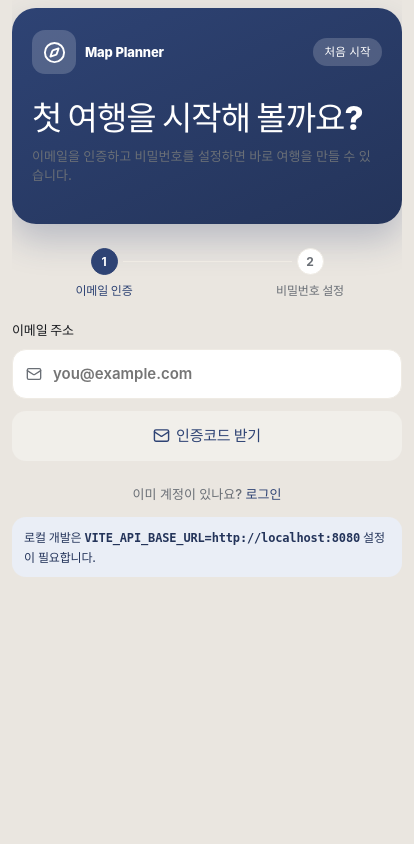
Test: ManageAuthSection › 서버 응답에 인증코드가 포함돼도 화면에 코드를 노출하지 않는다
Type "traveler@example.com" into the field labelled "이메일 주소" at (207, 374), box 12,349 -> 402,399
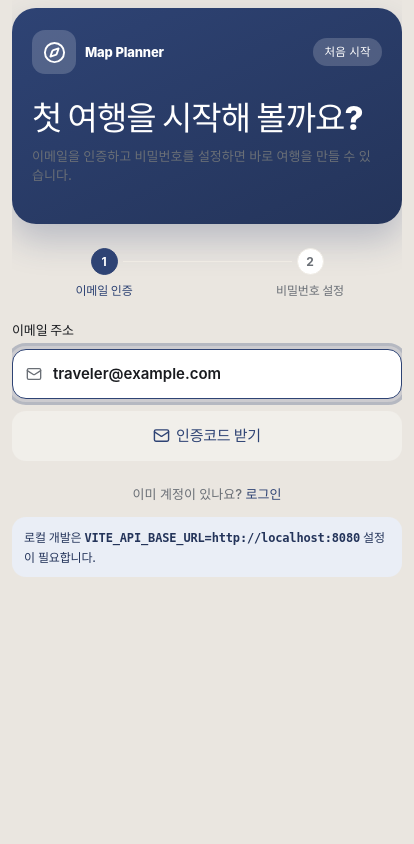
Click the button "인증코드 받기" at (207, 436), box 12,411 -> 402,461
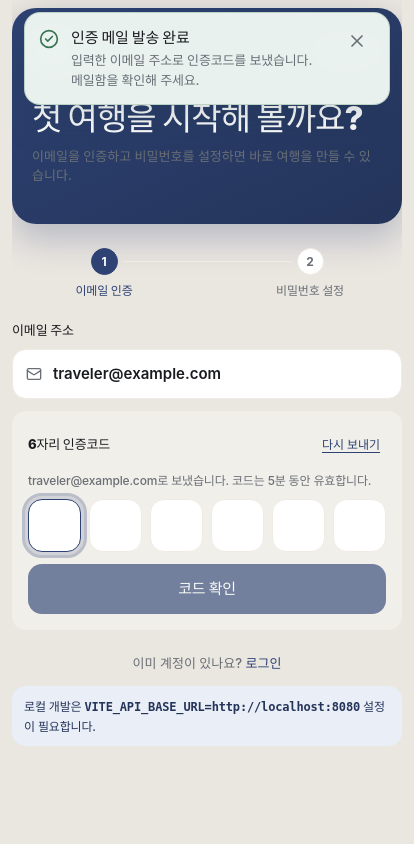
expect the heading "인증 메일 발송 완료" is shown: met, box 71,28 -> 190,47
